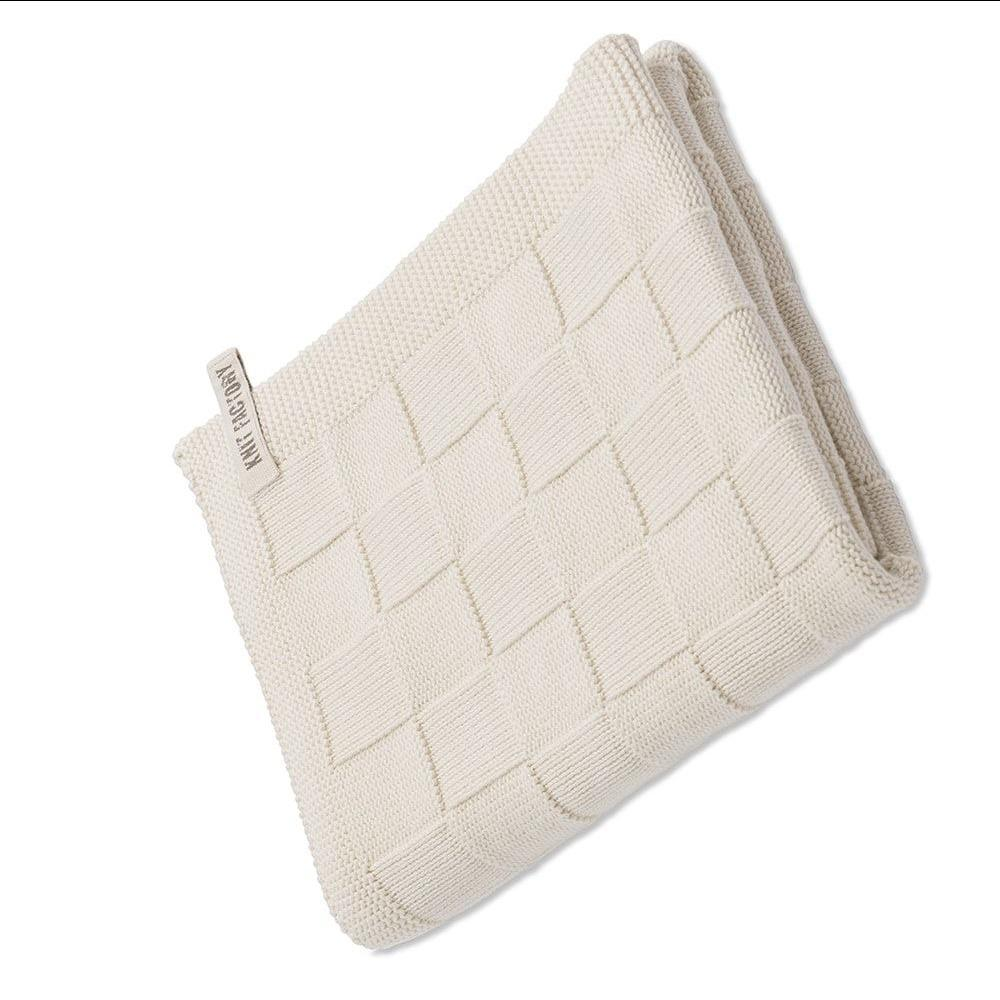towel: (167, 28, 980, 970)
